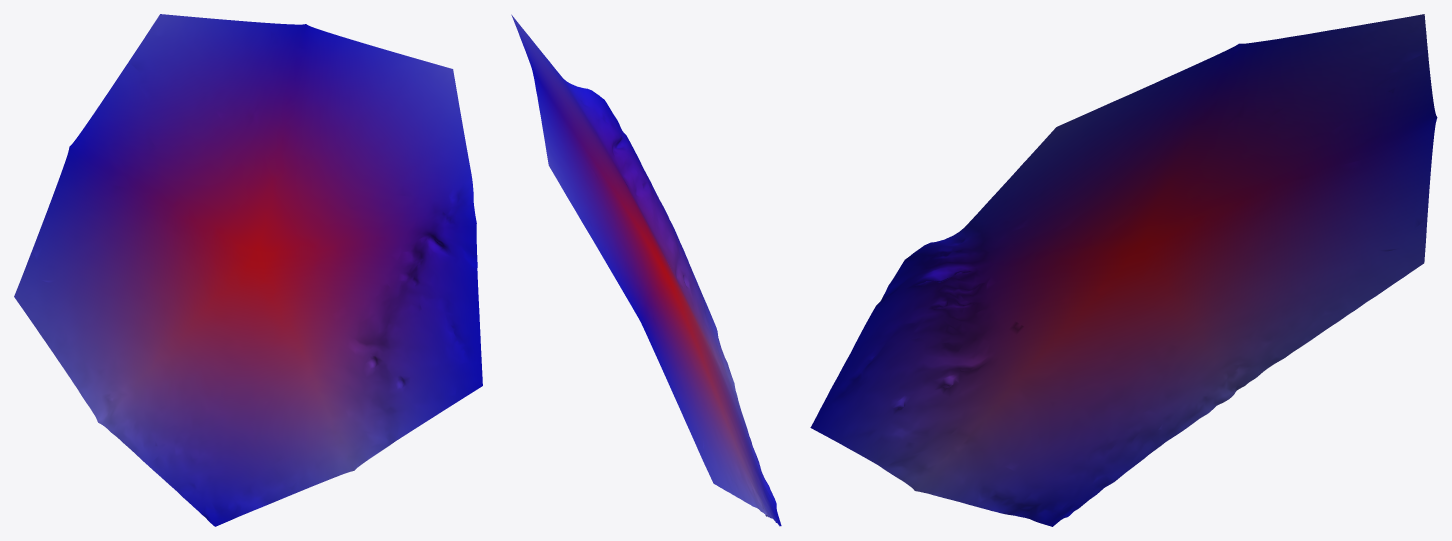
File: Hex_36.fbx
The picture shows the model from 3 angles, left to right: view 1: azimuth 30°, elevation 25°; view 2: azimuth 150°, elevation 25°; view 3: azimuth 270°, elevation 25°; orthographic projection. The views are drawn at different scales.
Parts seen in each view (by area): view 1: Hex_36; view 2: Hex_36; view 3: Hex_36.
Boxes of the visible parts, x1,y1,x2,y2 form: Hex_36: (14, 14, 482, 526); Hex_36: (511, 14, 781, 526); Hex_36: (810, 14, 1437, 526).
Size of the model in its own units: 286 by 368 by 353.
